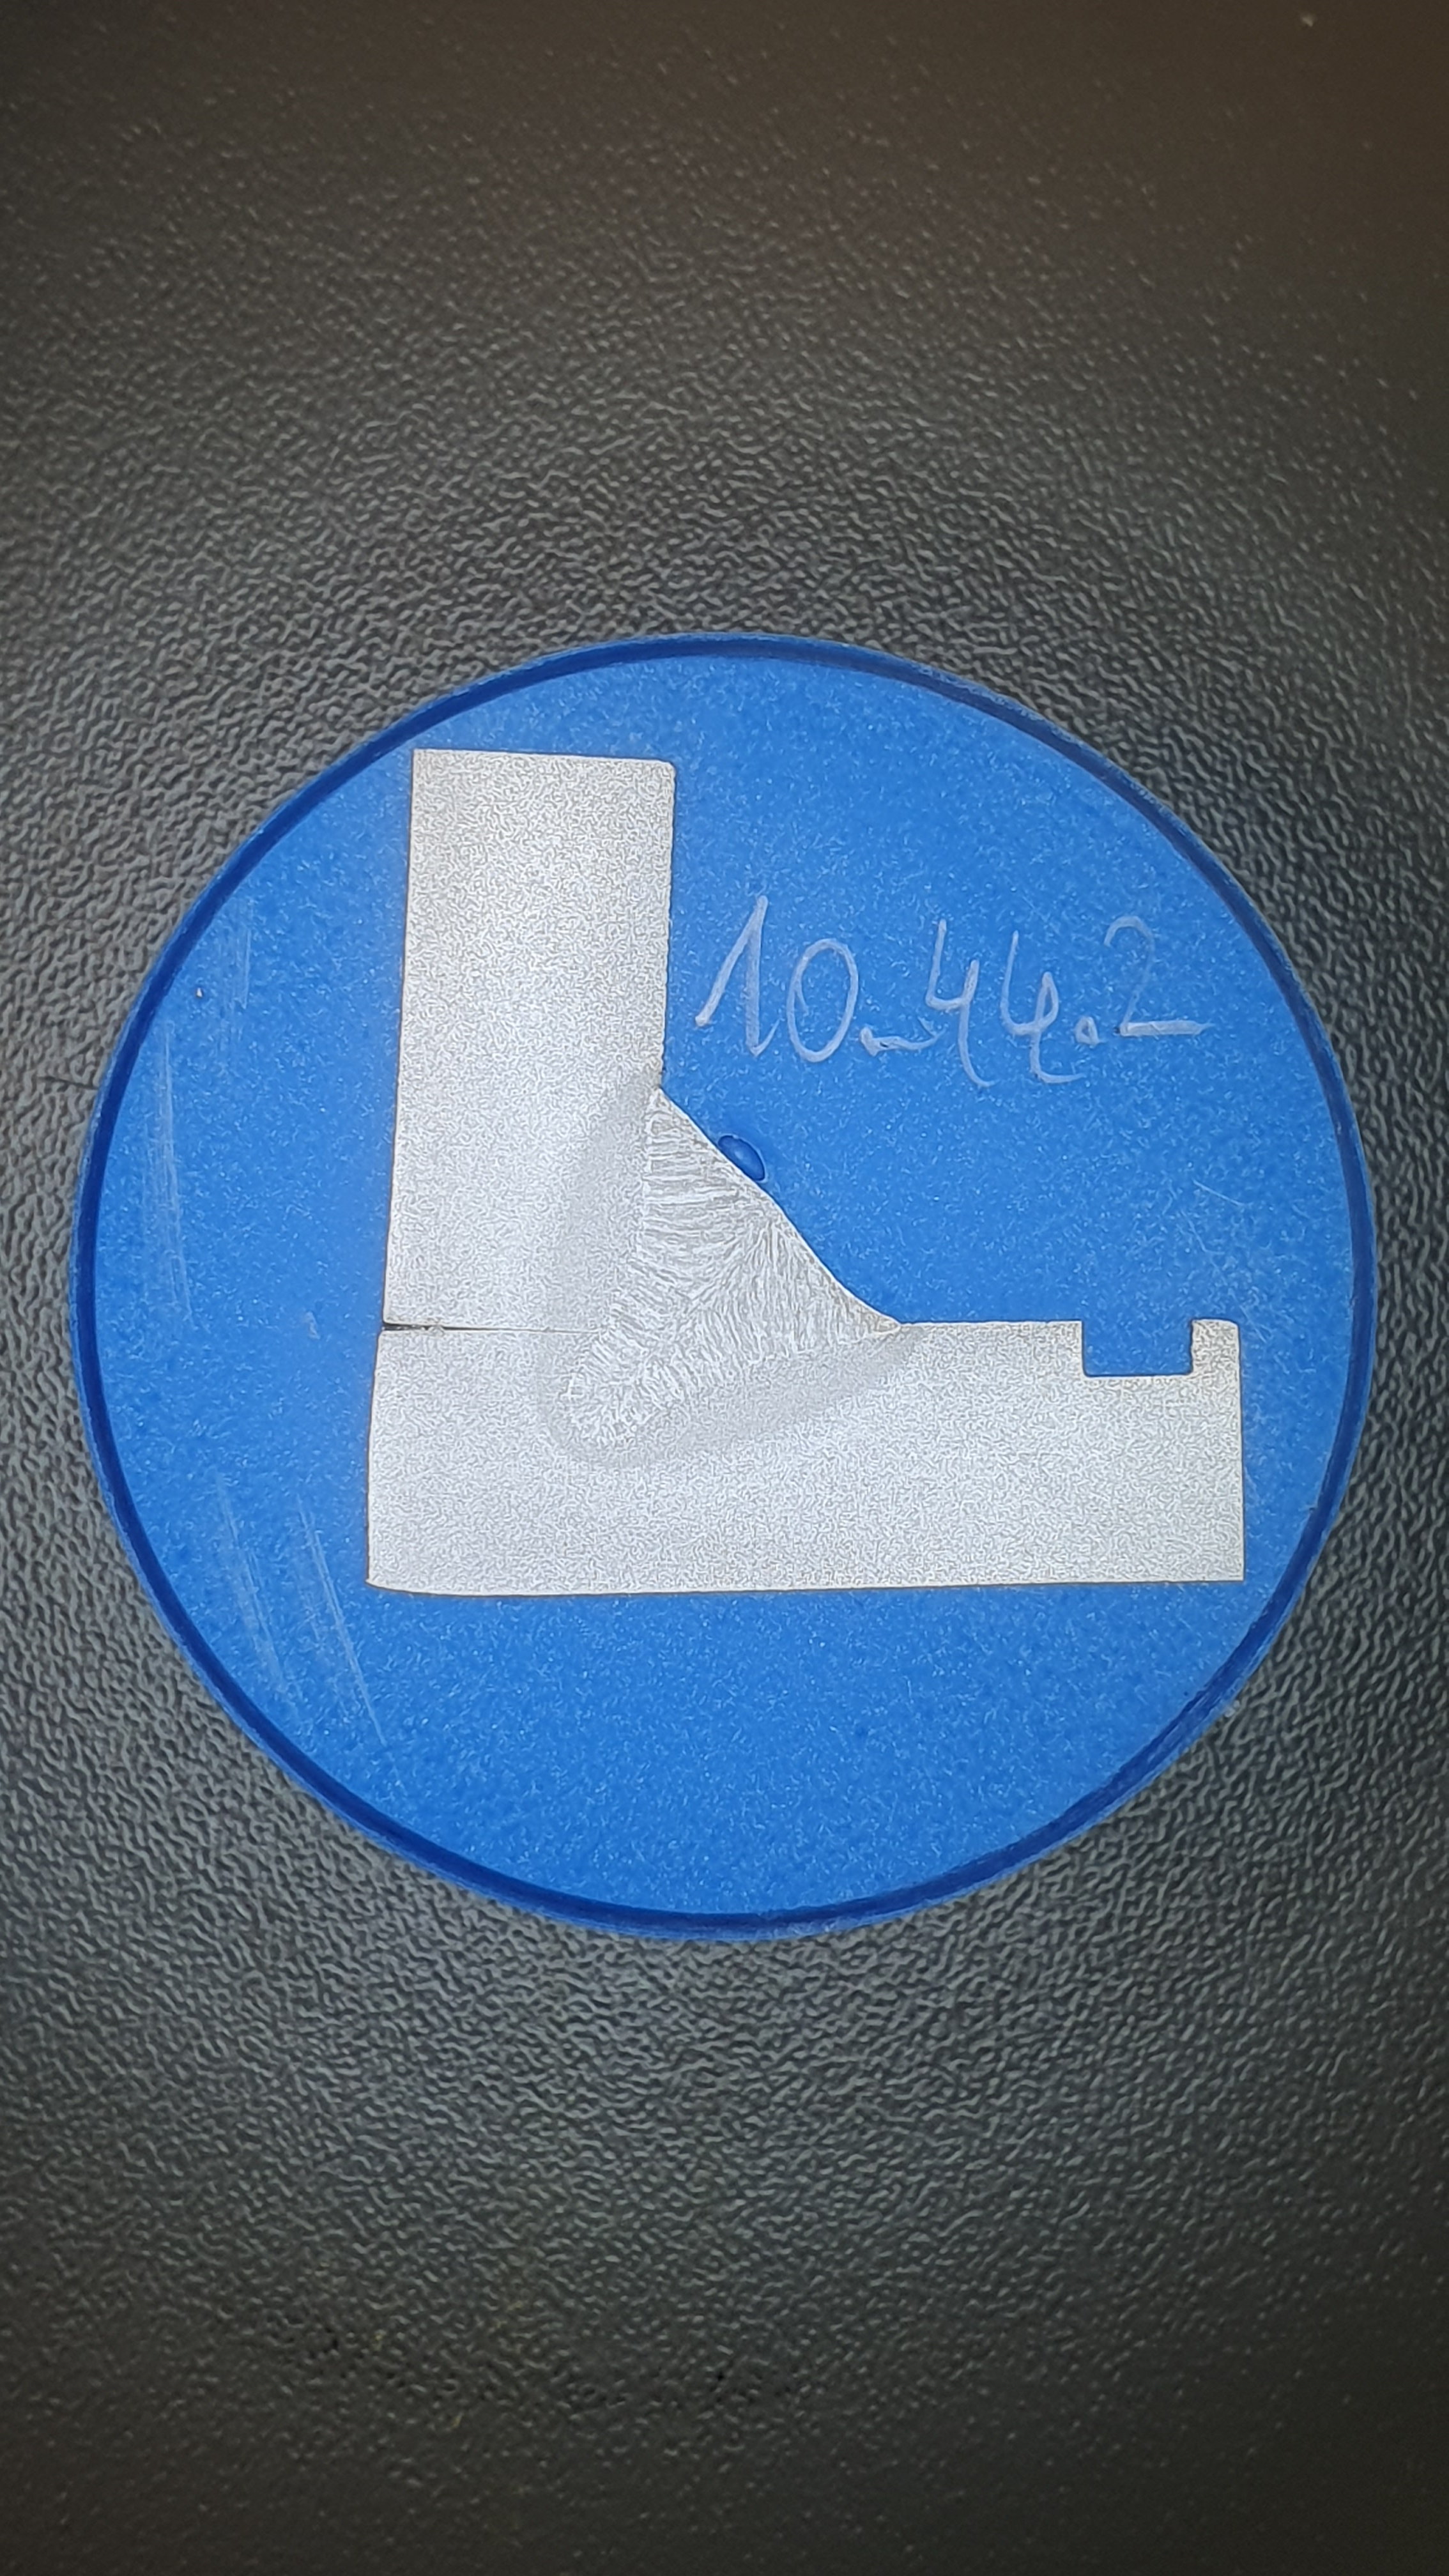Fusion: (564, 1088, 899, 1449)
Hintergrund: (96, 655, 1357, 1913)
Metall: (364, 747, 1244, 1596)
Nebenbereich: (510, 1058, 931, 1467)
